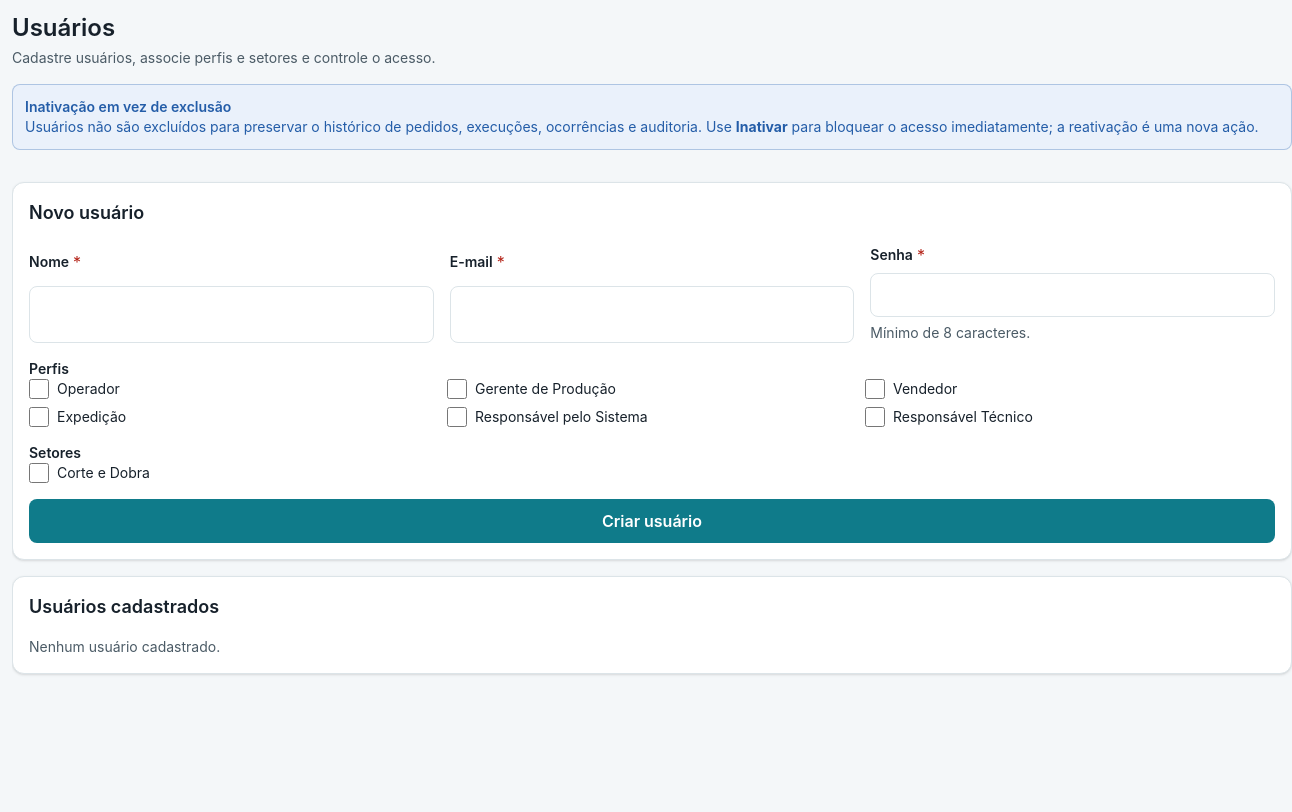
it: UsuariosPage › trata a falta de permissão com mensagem acessível (FEP-08)
Expected: the heading "Novo usuário" is shown, [29, 199, 144, 227]
Type "Beto" into the field labelled "Nome".
click(231, 314); type("Beto")  # box [29, 286, 434, 343]
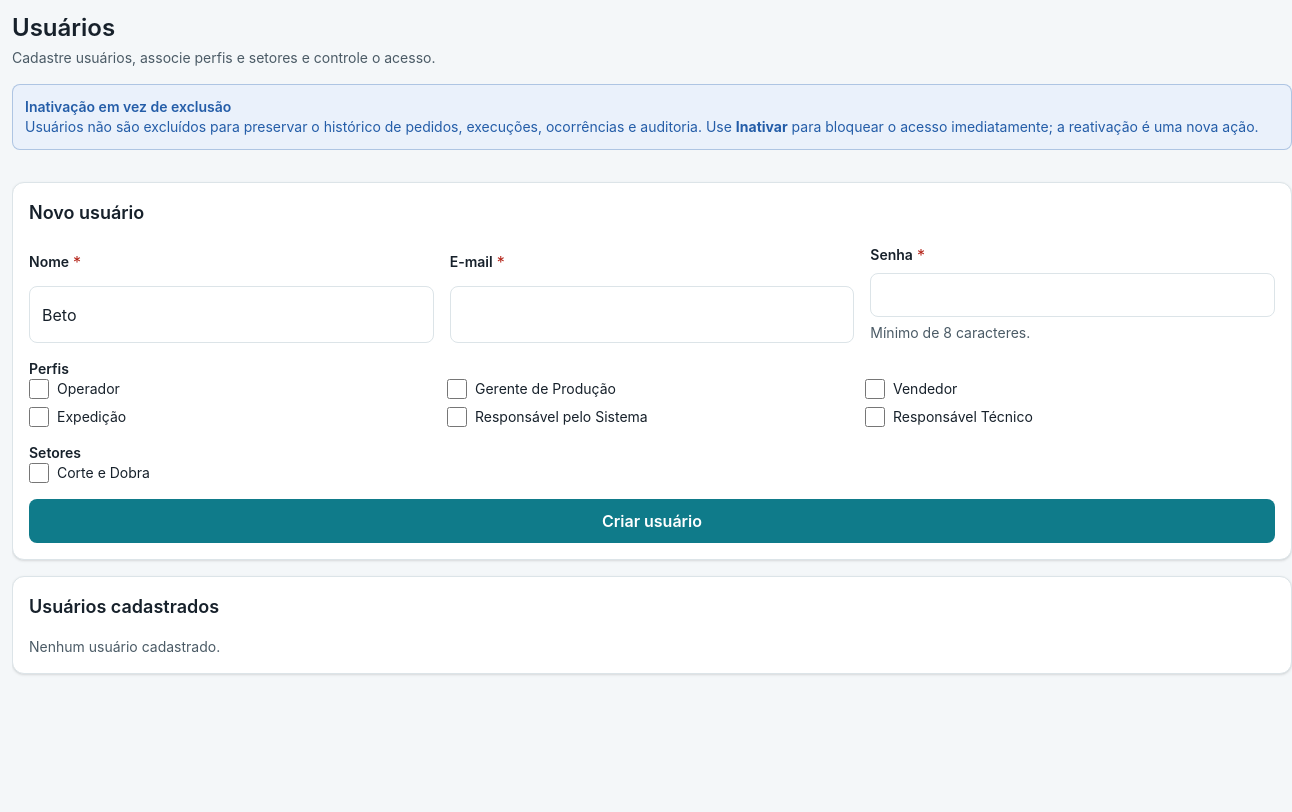
Type "beto@x.com" into the field labelled "E-mail".
click(652, 314); type("beto@x.com")  # box [450, 286, 854, 343]
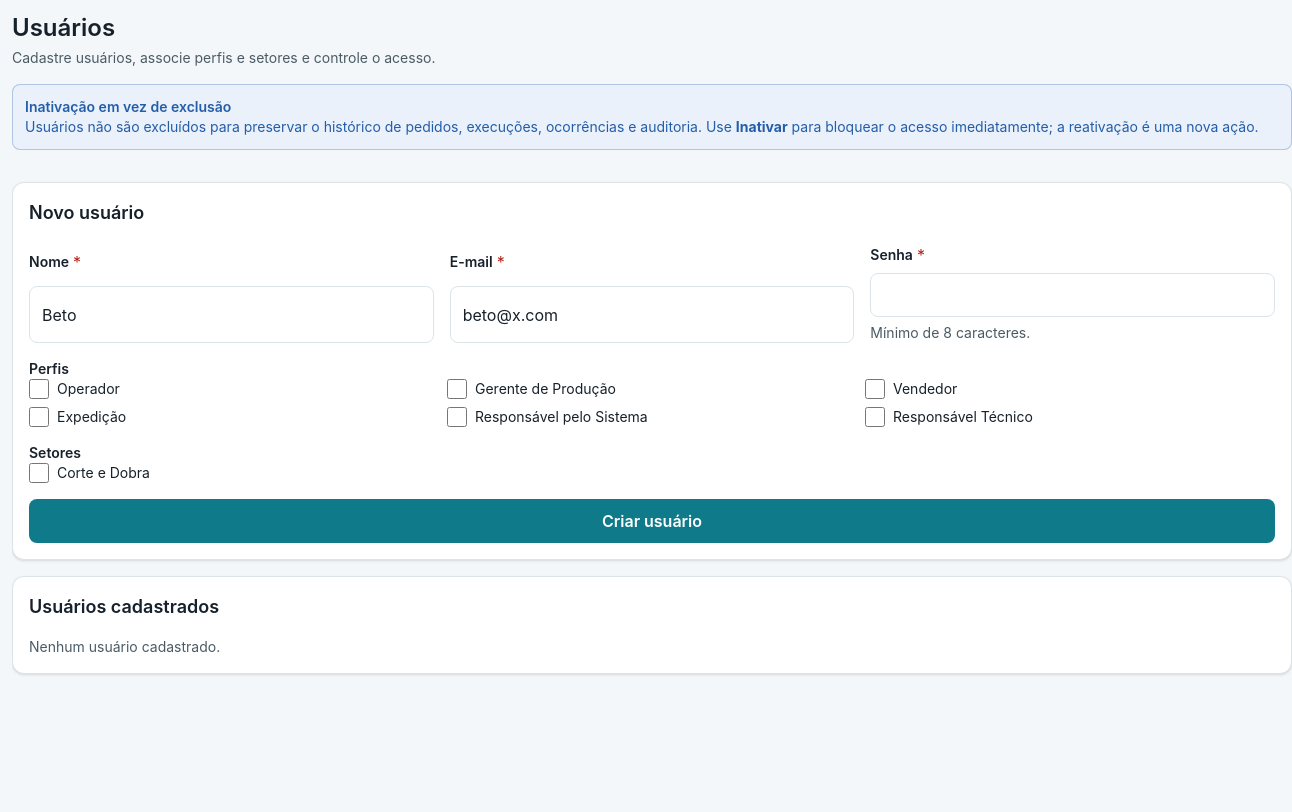
Type "segredo-forte" into the password field labelled "Senha".
click(1073, 295); type("segredo-forte")  # box [870, 273, 1275, 317]
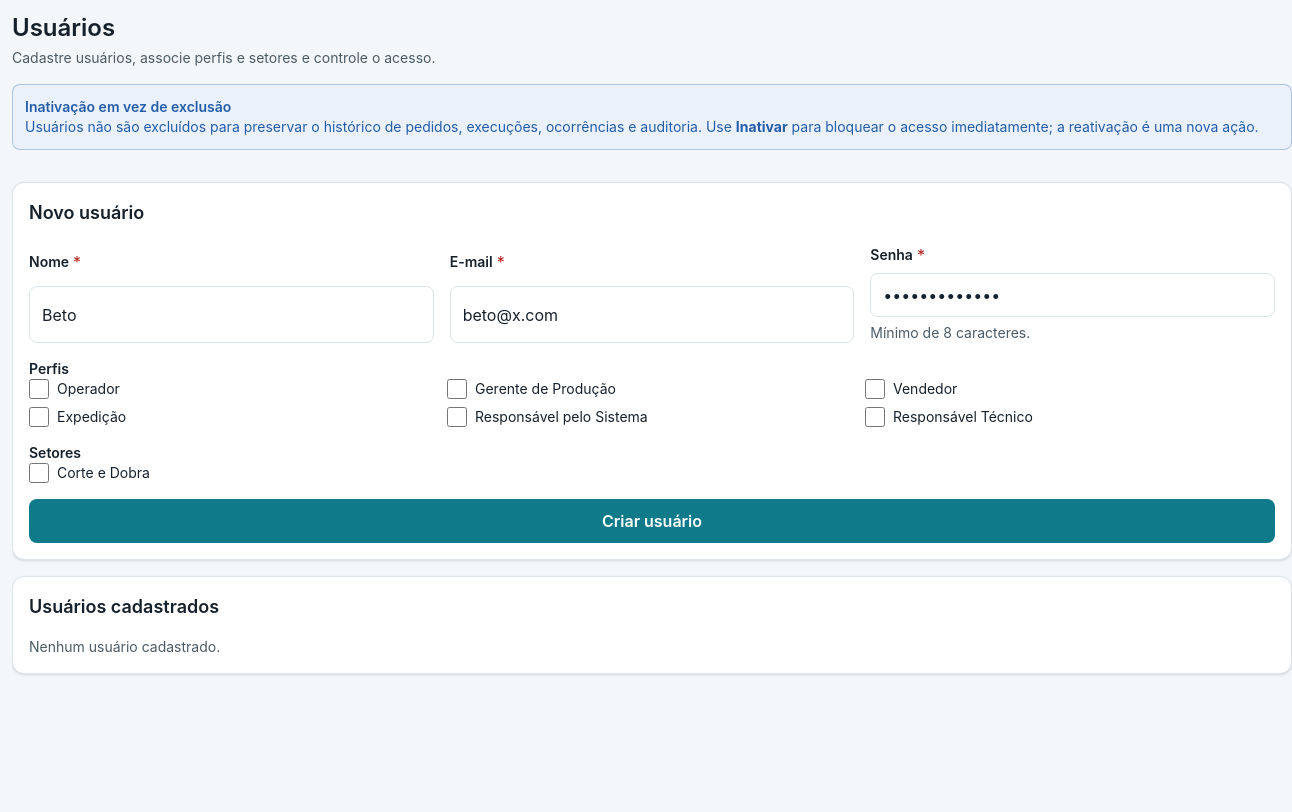
Click the button "Criar usuário".
click(652, 521)  # box [29, 499, 1275, 543]
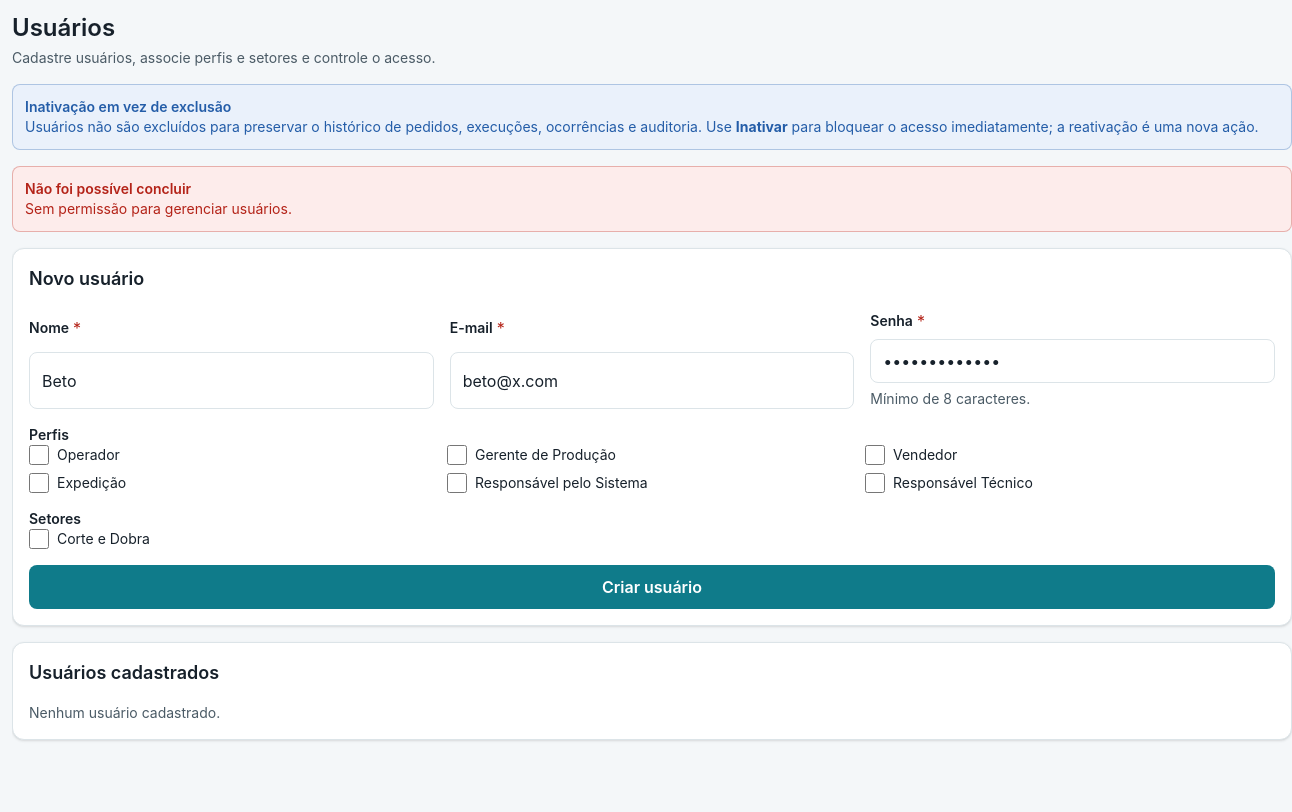
Expected: the message "Não foi possível concluir Sem permissão para gerenciar usuários." is shown, [12, 166, 1291, 232]
